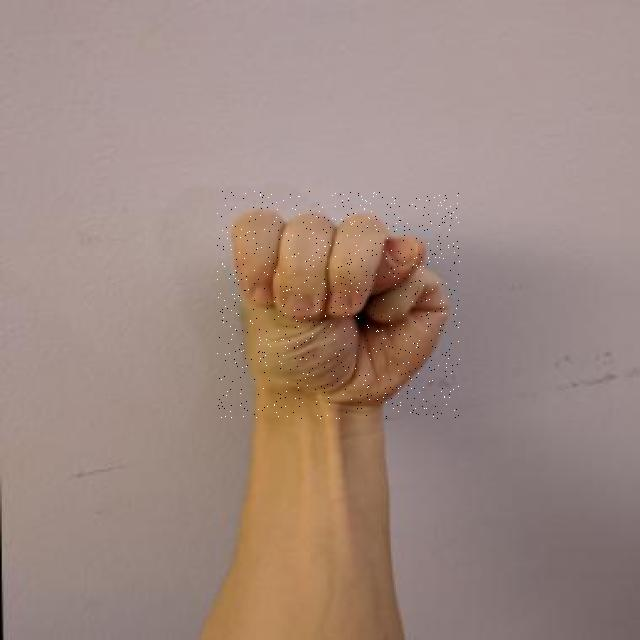M: (217, 191, 460, 419)
